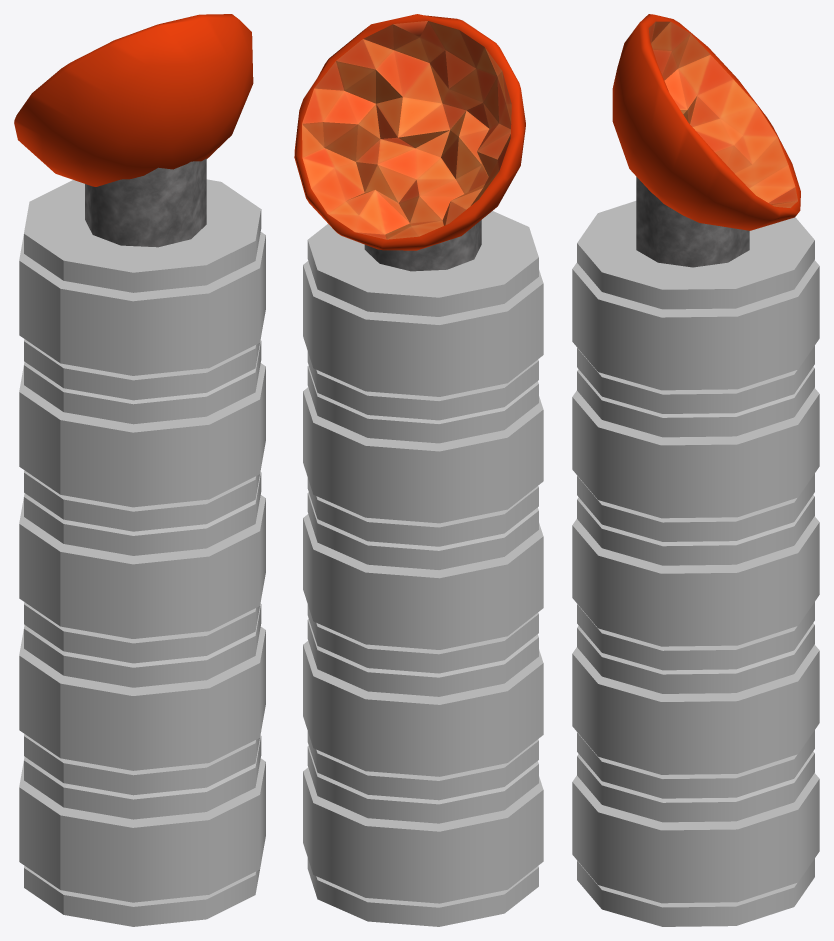
The model's file is Mirror.FBX.
3 views of the same model, side by side, from view 1: azimuth 30°, elevation 25°; view 2: azimuth 150°, elevation 25°; view 3: azimuth 270°, elevation 25° (orthographic). The views are drawn at different scales.
Parts seen in each view (by area): view 1: Plane011, Plane012, Plane013, Plane014, Plane010, GeoSphere003, Cylinder001; view 2: GeoSphere003, Plane011, Plane012, Plane013, Plane014, Plane010, Cylinder001; view 3: Plane011, Plane014, Plane012, Plane013, Plane010, GeoSphere003, Cylinder001.
Part boxes in pixels (x1=…): Plane011: x1=19, y1=179, x2=265, y2=400; Plane012: x1=19, y1=472, x2=265, y2=663; Plane013: x1=19, y1=603, x2=265, y2=795; Plane014: x1=19, y1=735, x2=265, y2=926; Plane010: x1=19, y1=340, x2=265, y2=531; GeoSphere003: x1=14, y1=14, x2=253, y2=186; Cylinder001: x1=85, y1=158, x2=206, y2=247; GeoSphere003: x1=294, y1=14, x2=525, y2=250; Plane011: x1=303, y1=211, x2=543, y2=420; Plane012: x1=303, y1=492, x2=543, y2=673; Plane013: x1=303, y1=619, x2=543, y2=800; Plane014: x1=303, y1=745, x2=543, y2=926; Plane010: x1=303, y1=365, x2=543, y2=546; Cylinder001: x1=364, y1=220, x2=481, y2=271; Plane011: x1=572, y1=201, x2=819, y2=413; Plane014: x1=572, y1=751, x2=819, y2=926; Plane012: x1=572, y1=494, x2=819, y2=670; Plane013: x1=572, y1=623, x2=819, y2=798; Plane010: x1=572, y1=366, x2=819, y2=541; GeoSphere003: x1=612, y1=14, x2=800, y2=230; Cylinder001: x1=636, y1=177, x2=749, y2=267.
Size of the model in its own units: 345 by 1299 by 342.
